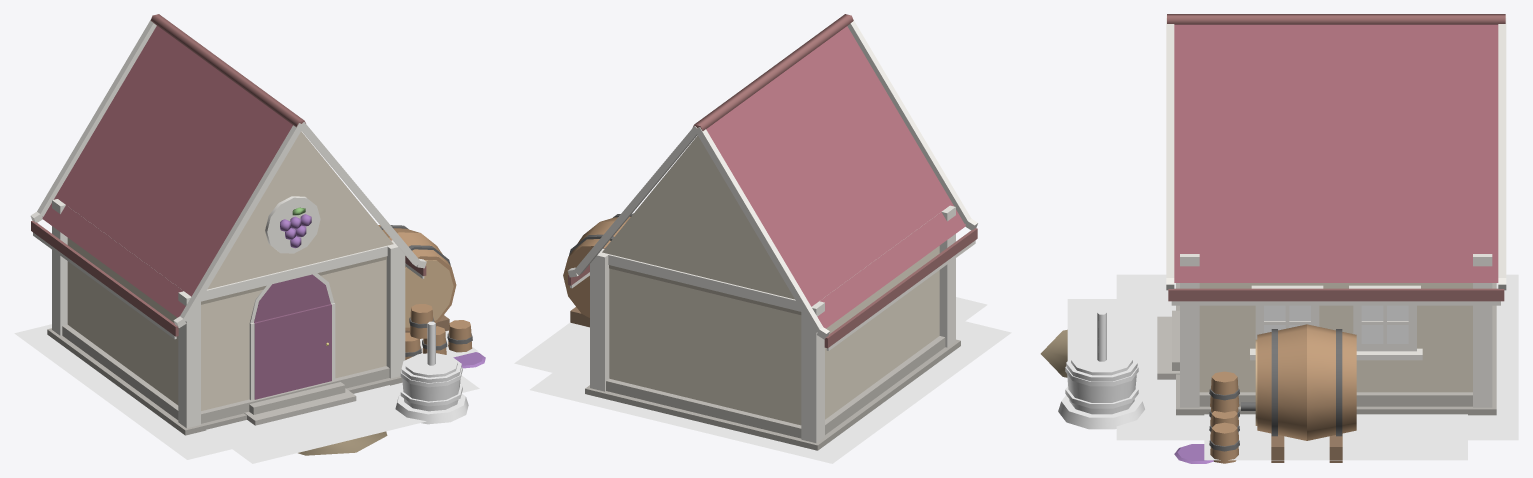
The model's file is winery_1.glb.
3 views of the same model, side by side, from view 1: azimuth 30°, elevation 25°; view 2: azimuth 150°, elevation 25°; view 3: azimuth 270°, elevation 25° (orthographic). The views are drawn at different scales.
Visible parts, largest first — view 1: body4, winery_1, when_plan_true, body3; view 2: body4, winery_1; view 3: body4, winery_1, when_plan_true, body3.
Part boxes in pixels (<box>): body4: <box>30,14,456,455</box>; winery_1: <box>14,324,479,463</box>; when_plan_true: <box>395,321,468,424</box>; body3: <box>409,304,485,368</box>; body4: <box>563,14,977,450</box>; winery_1: <box>514,297,1011,463</box>; body4: <box>1040,14,1506,462</box>; winery_1: <box>1067,274,1518,460</box>; when_plan_true: <box>1058,311,1144,429</box>; body3: <box>1174,371,1239,463</box>.
Bounding box in the file's own units: 2.65 × 2.2 × 2.8.
